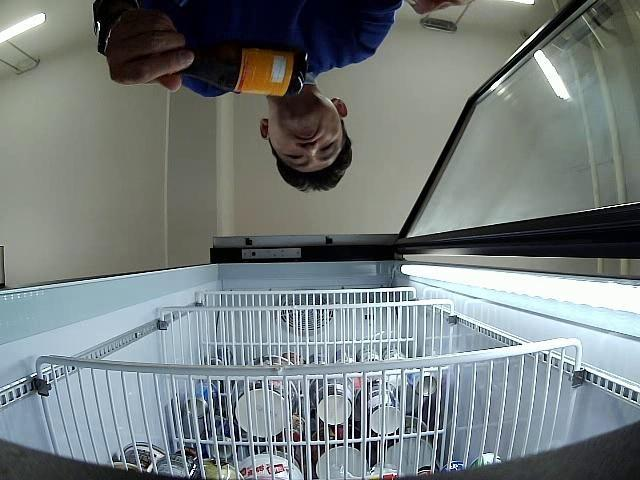17_vita500: (187, 40, 309, 102)
